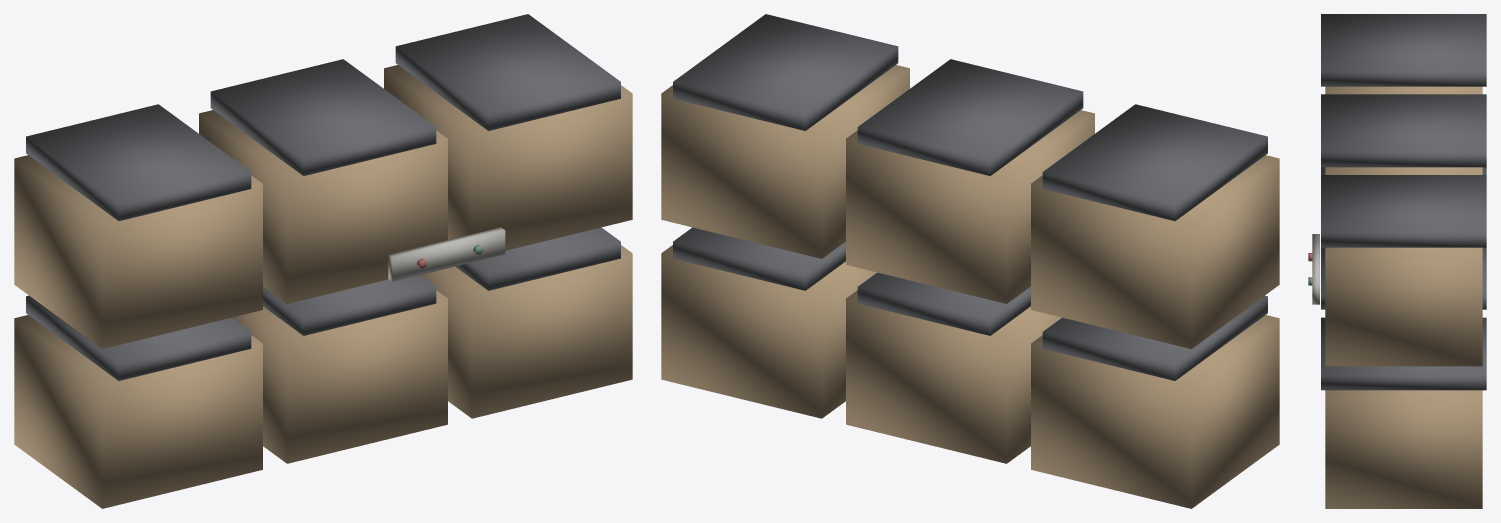
The model's file is fruit_crate_display.glb.
3 renders of one model, left to right at view 1: azimuth 30°, elevation 25°; view 2: azimuth 150°, elevation 25°; view 3: azimuth 270°, elevation 25°, orthographic. The views are drawn at different scales.
Parts seen in each view (by area): view 1: world; view 2: world; view 3: world.
Boxes of the visible parts, x1,y1,x2,y2 form: world: [14, 14, 632, 508]; world: [661, 14, 1279, 508]; world: [1308, 14, 1486, 508].
Size of the model in its own units: 1.32 by 0.72 by 0.431.
